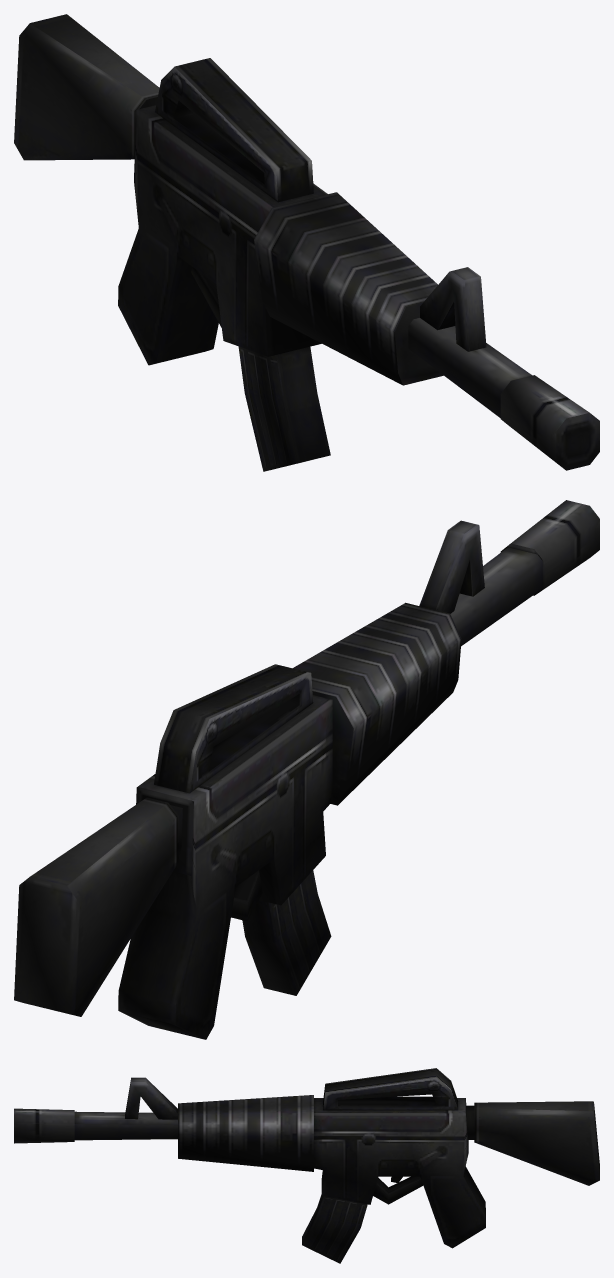
The model's file is Weapon_Rifle_M16_15c2778b__Weapon_Rifle_M16_a1452eb9_c1f257.obj.
3 views of the same model, one above another, from view 1: azimuth 30°, elevation 25°; view 2: azimuth 150°, elevation 25°; view 3: azimuth 270°, elevation 25° (orthographic). The views are drawn at different scales.
Bounding box in the file's own units: 0.1524 × 0.4946 × 1.41.
1 material, 1 textured.
